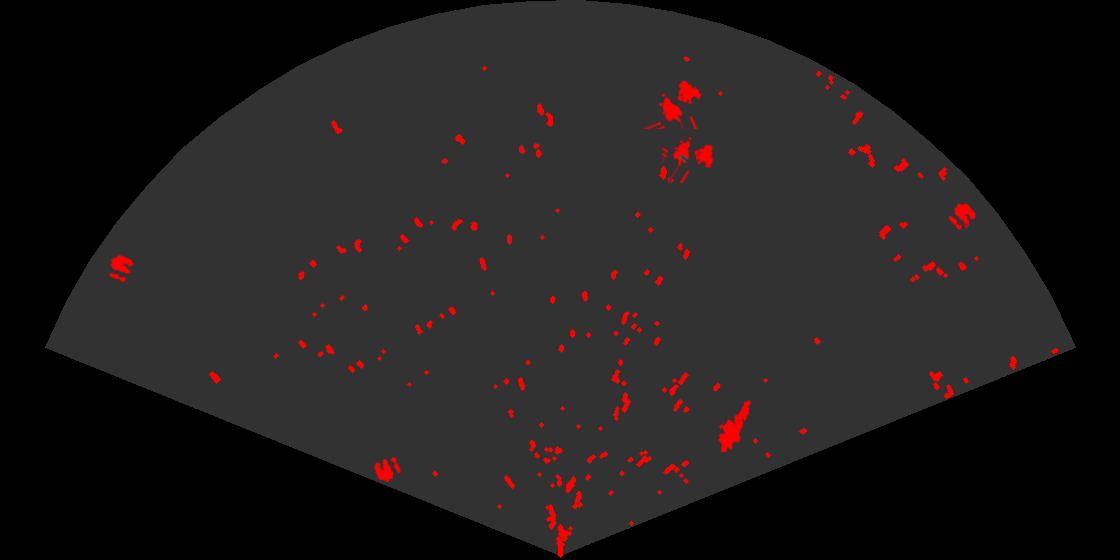ball: (372, 455, 402, 484), (947, 202, 977, 231), (107, 253, 135, 284)
cage: (644, 79, 703, 129), (662, 135, 715, 183)
frogman: (716, 398, 752, 452)
